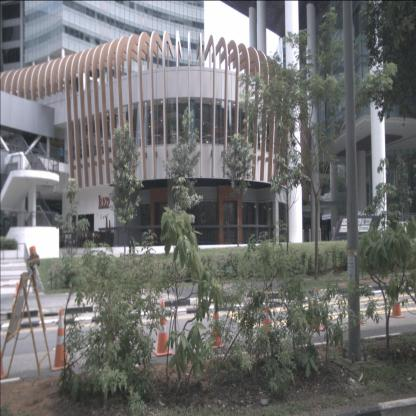human-pedestrian-adult: (60, 144, 64, 164)
movable_object-trafficcone: (204, 291, 225, 350), (52, 308, 70, 372), (154, 300, 172, 355), (388, 277, 405, 318), (310, 286, 325, 332), (352, 281, 365, 325), (262, 292, 274, 338), (0, 281, 3, 382)
